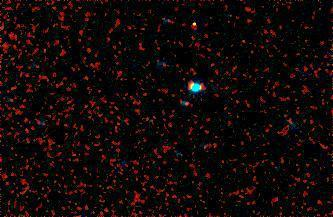star: (180, 9, 210, 39)
